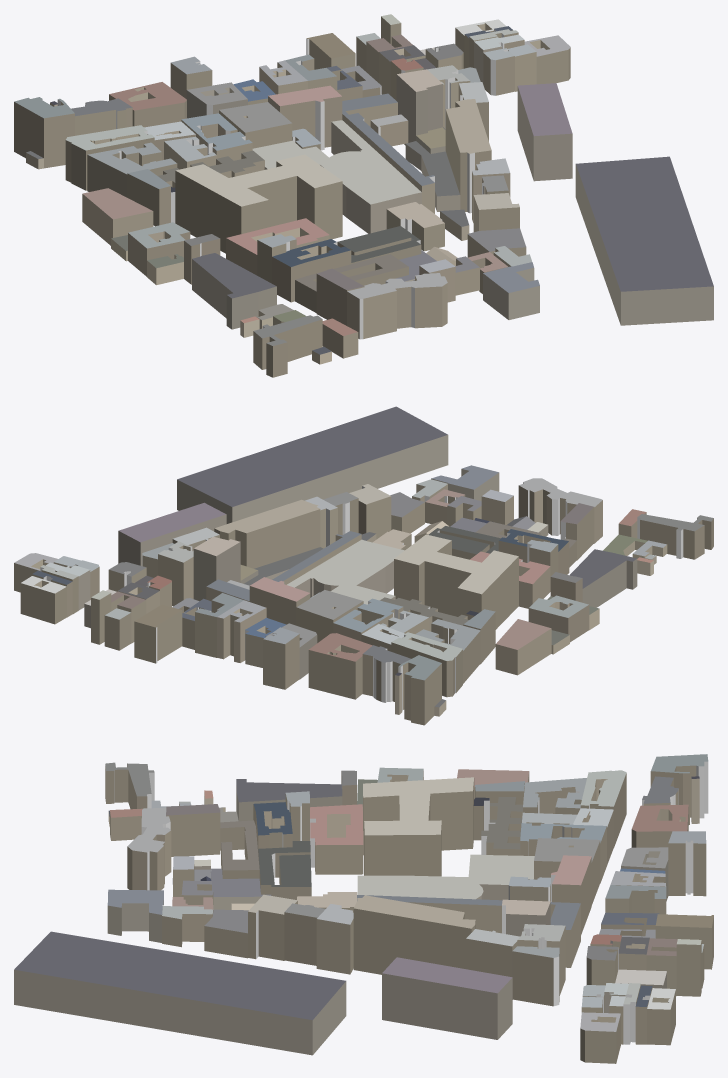
3 renders of one model, top to bottom at view 1: azimuth 30°, elevation 25°; view 2: azimuth 150°, elevation 25°; view 3: azimuth 270°, elevation 25°, orthographic. The views are drawn at different scales.
Parts seen in each view (by area): view 1: tuile; view 2: tuile; view 3: tuile.
Boxes of the visible parts, <box> form: tuile: <box>14,14,713,377</box>; tuile: <box>14,406,713,725</box>; tuile: <box>14,754,713,1063</box>.
Size of the model in its own units: 274 by 34.88 by 300.
